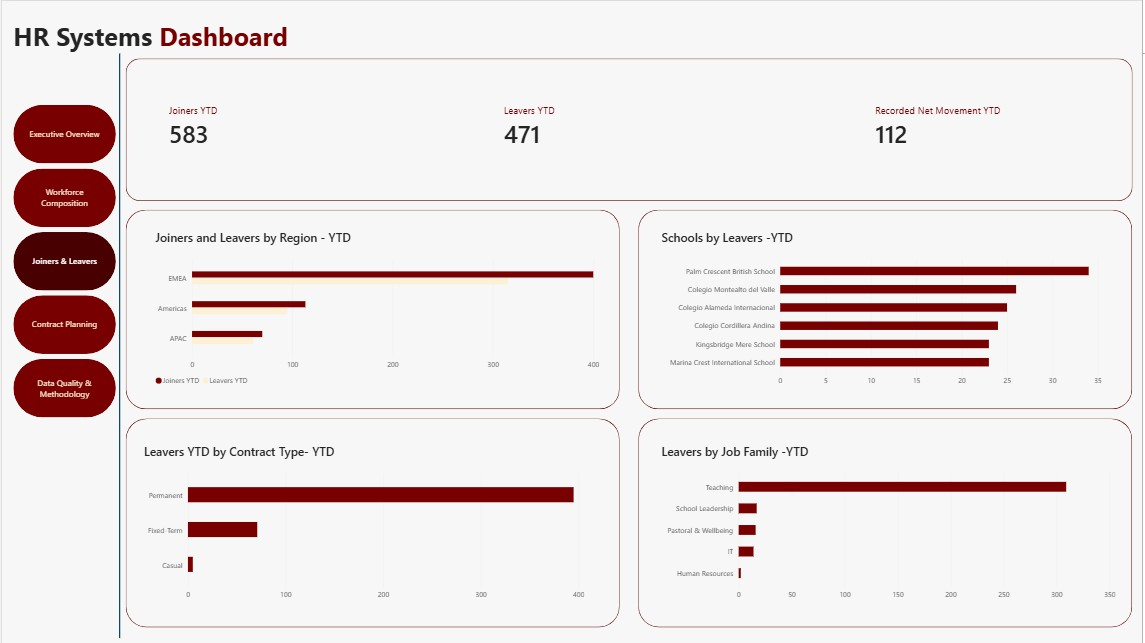

What the dashboard file says about the page in this screenshot:
{"tool":"powerbi","page":{"name":"Joiners & Leavers","canvas":[1920,1080],"ordinal":2},"visuals":[{"type":"shape","box":[208,704,832,352],"z":0},{"type":"shape","box":[1072,704,832,352],"z":1000},{"type":"shape","box":[1072,352,832,336],"z":2000},{"type":"shape","box":[208,352,832,336],"z":3000},{"type":"shape","box":[208,96,1696,240],"z":4000},{"type":"textbox","box":[19,29.2,557.3,80.2],"z":5000},{"type":"shape","box":[192,88,13.1,984.8],"z":6000},{"type":"pageNavigator","box":[18.8,174,174,529.8],"z":7000},{"type":"cardVisual","fields":{"Data":["Employees_Reporting.Joiners YTD"]},"box":[265.4,109.7,385.5,206.1],"z":8000},{"type":"cardVisual","fields":{"Data":["Employees_Reporting.Leavers YTD"]},"box":[828.8,109.7,385.5,206.1],"z":9000},{"type":"cardVisual","fields":{"Data":["Employees_Reporting.Recorded Net Movement YTD"]},"box":[1455.9,109.7,385.5,206.1],"z":10000},{"type":"clusteredBarChart","title":"Joiners and Leavers by Region - YTD","fields":{"Category":["Employees_Reporting.Region"],"Y":["Employees_Reporting.Joiners YTD","Employees_Reporting.Leavers YTD"]},"box":[241.7,370.7,779.9,298],"z":11000},{"type":"barChart","title":"Schools by Leavers -YTD","fields":{"Category":["Employees_Reporting.Establishment Name"],"Y":["Employees_Reporting.Leavers YTD"]},"box":[1095.7,370.7,773.9,298],"z":12000},{"type":"barChart","title":"Leavers YTD by Contract Type- YTD","fields":{"Category":["Employees_Reporting.Working_Pattern"],"Y":["Employees_Reporting.Leavers YTD"]},"box":[222.4,730.9,773.9,298],"z":13000},{"type":"barChart","title":"Leavers by Job Family -YTD","fields":{"Category":["Employees_Reporting.Job Family"],"Y":["Employees_Reporting.Leavers YTD"]},"box":[1095.6,731.4,797,297.1],"z":14000}]}

Visuals, with their boxes in screenshot pixels (x1, y1, x2, y2), scaled from the page's 1920x1080 canvas onto the 1145x643 screenshot:
shape: box=[124, 419, 620, 629]
shape: box=[639, 419, 1135, 629]
shape: box=[639, 210, 1135, 410]
shape: box=[124, 210, 620, 410]
shape: box=[124, 57, 1135, 200]
textbox: box=[11, 17, 344, 65]
shape: box=[114, 52, 122, 639]
pageNavigator: box=[11, 104, 115, 419]
cardVisual - Employees_Reporting.Joiners YTD: box=[158, 65, 388, 188]
cardVisual - Employees_Reporting.Leavers YTD: box=[494, 65, 724, 188]
cardVisual - Employees_Reporting.Recorded Net Movement YTD: box=[868, 65, 1098, 188]
"Joiners and Leavers by Region - YTD" clusteredBarChart: box=[144, 221, 609, 398]
"Schools by Leavers -YTD" barChart: box=[653, 221, 1115, 398]
"Leavers YTD by Contract Type- YTD" barChart: box=[133, 435, 594, 613]
"Leavers by Job Family -YTD" barChart: box=[653, 435, 1129, 612]
